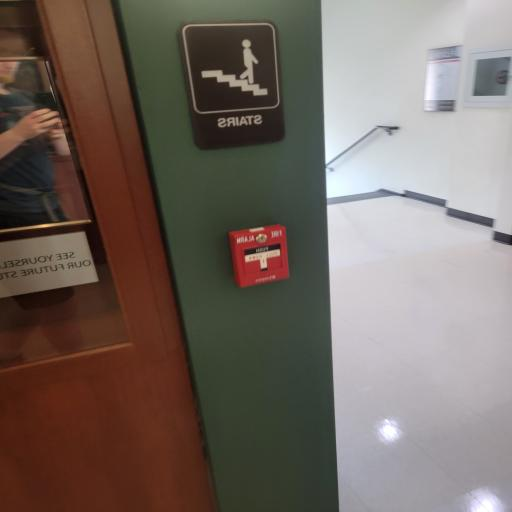fire alarm: (230, 223, 297, 294)
stairs sign: (173, 21, 292, 152)
